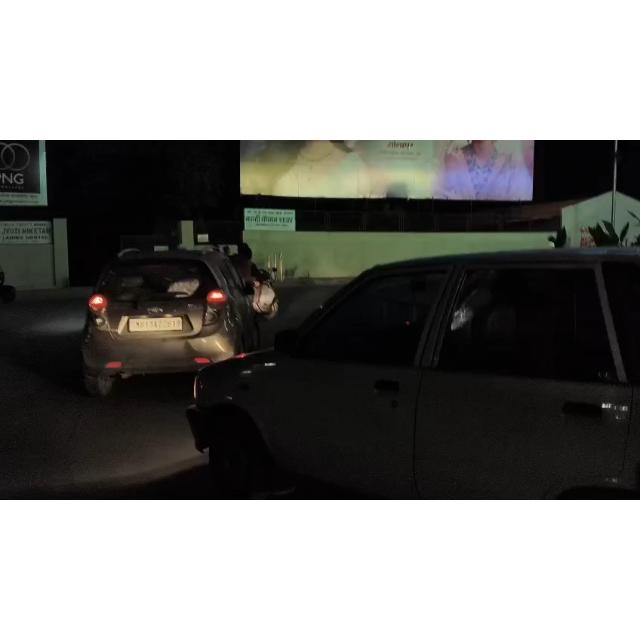car: (181, 233, 639, 499), (65, 204, 289, 398)
